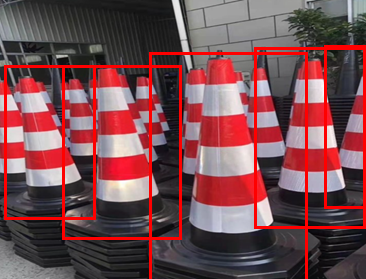traffic_cone: (153, 49, 317, 278), (59, 62, 189, 247), (255, 39, 366, 221), (2, 59, 95, 213)
